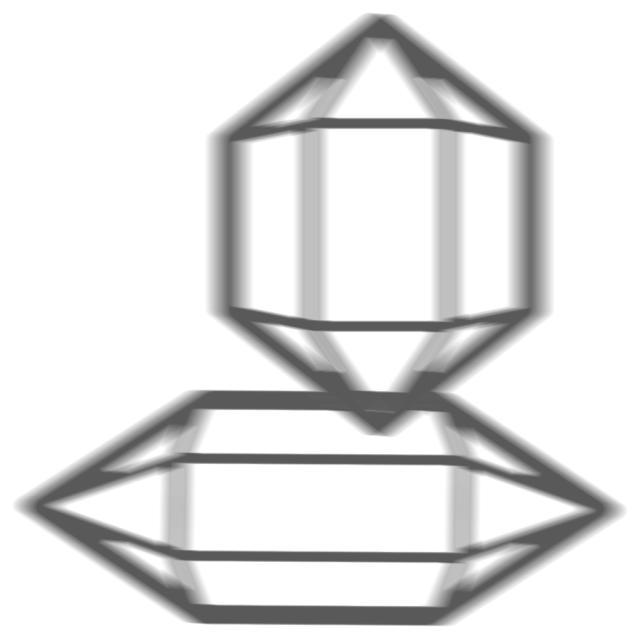crystal: (192, 8, 569, 446), (4, 379, 637, 633)
